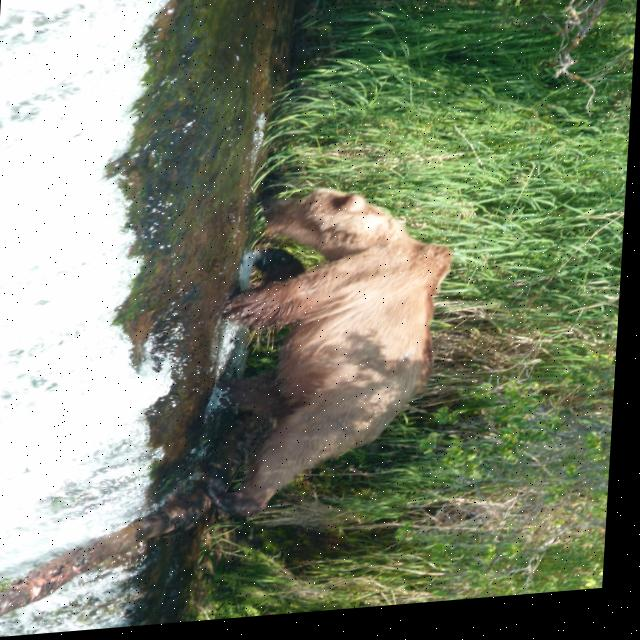bear face: (236, 188, 457, 519)
